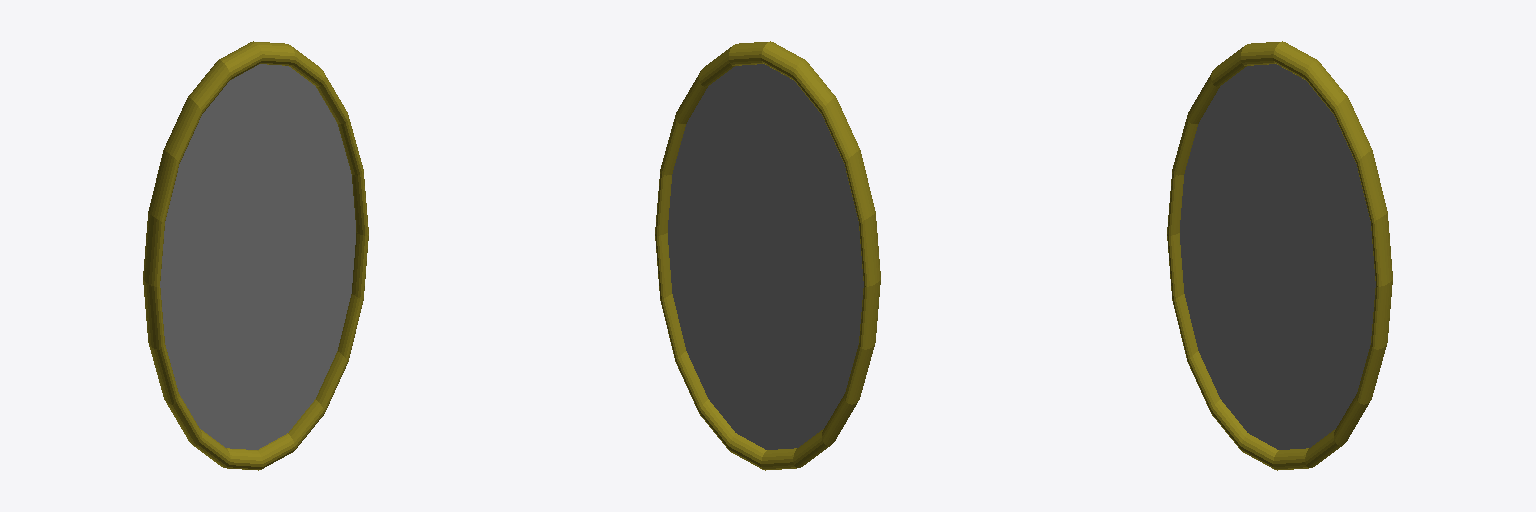
Rendered from mirror.obj.
The picture shows the model from 3 angles: view 1: azimuth 30°, elevation 25°; view 2: azimuth 150°, elevation 25°; view 3: azimuth 330°, elevation 25°; orthographic projection.
Bounding box in the file's own units: 4.43 × 8.24 × 0.4816.